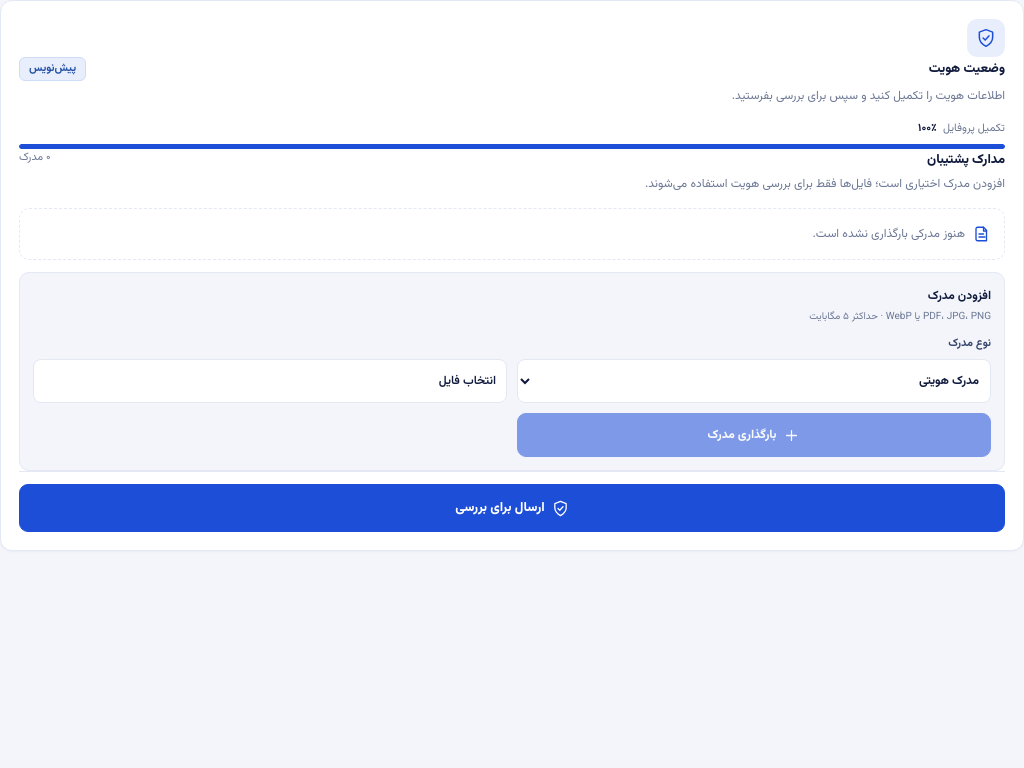
Test: BusinessVerificationPanel › submits a complete individual identity using its existing API endpoint
What coordinates should you click on to do the following:
click the button "ارسال برای بررسی"
I would click on:
 (512, 508)
Its box is [19,484,1005,532].
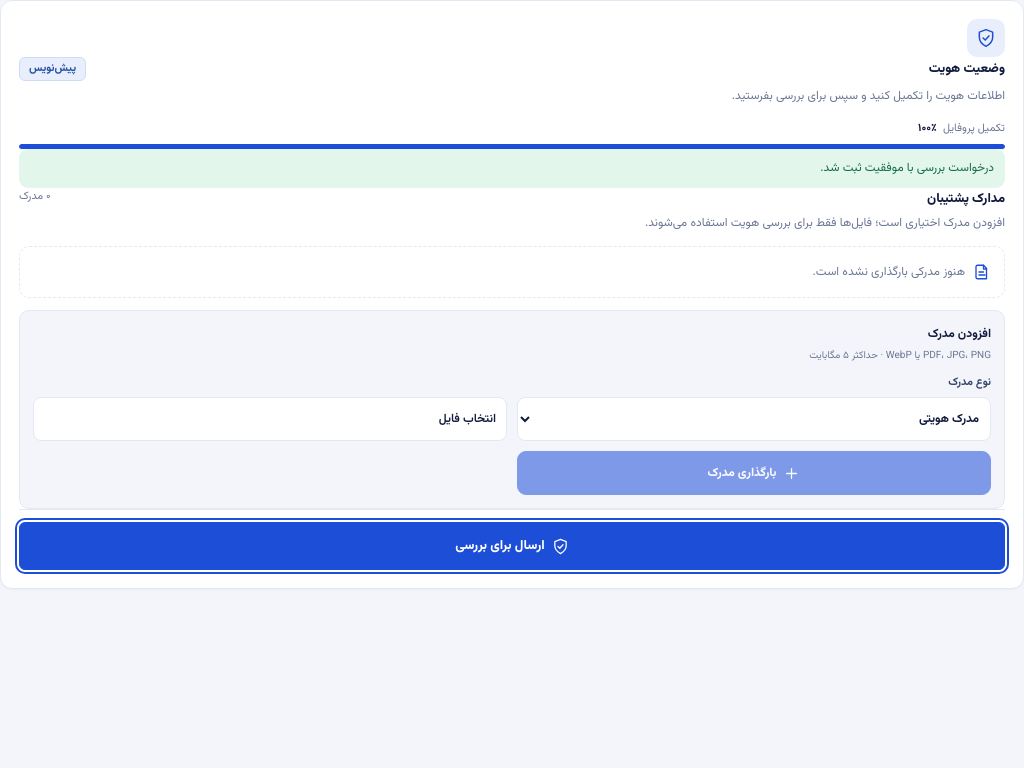
Result: the text "درخواست بررسی با موفقیت ثبت شد." is shown at [19,149,1005,188]
